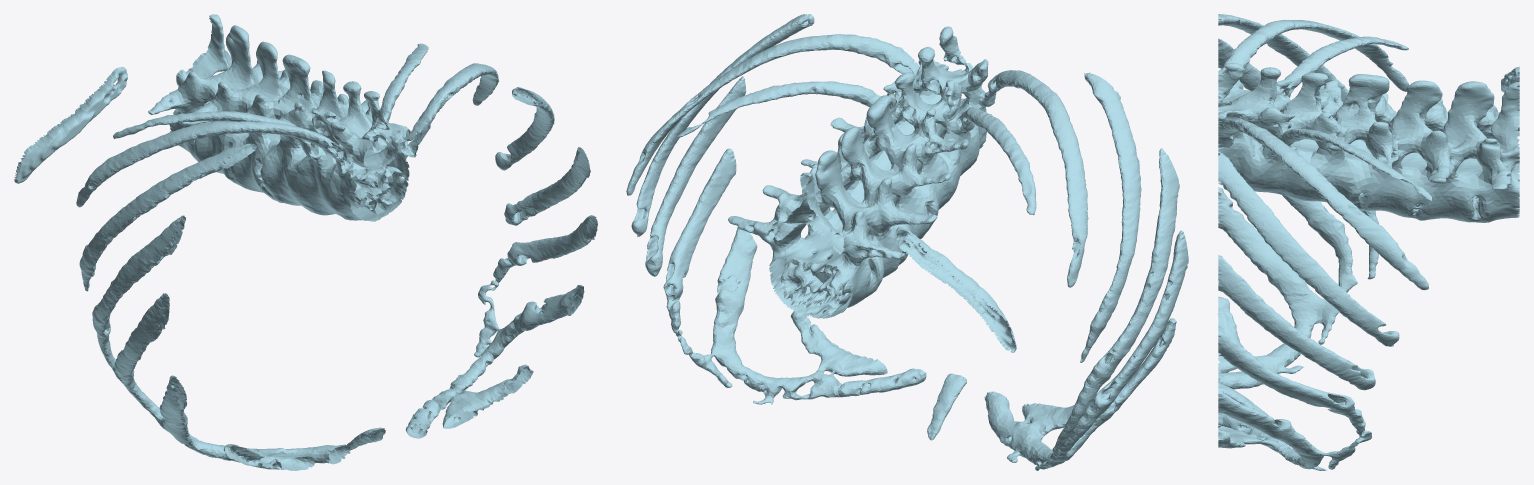
File: bone.obj
3 renders of one model, left to right at view 1: azimuth 30°, elevation 25°; view 2: azimuth 150°, elevation 25°; view 3: azimuth 270°, elevation 25°, orthographic. The views are drawn at different scales.
Visible parts, largest first — view 1: grp1; view 2: grp1; view 3: grp1.
Boxes of the visible parts, x1,y1,x2,y2 form: grp1: [14, 14, 597, 470]; grp1: [626, 14, 1188, 470]; grp1: [1217, 14, 1519, 470].
Size of the model in its own units: 304 by 236 by 179.
